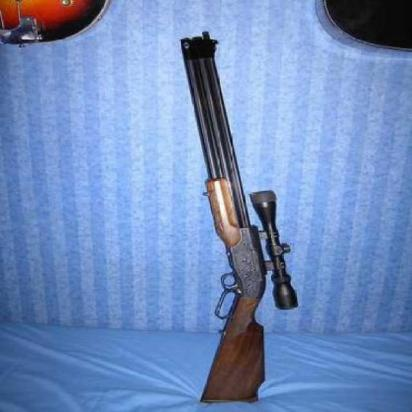Gun: (181, 35, 300, 404)
